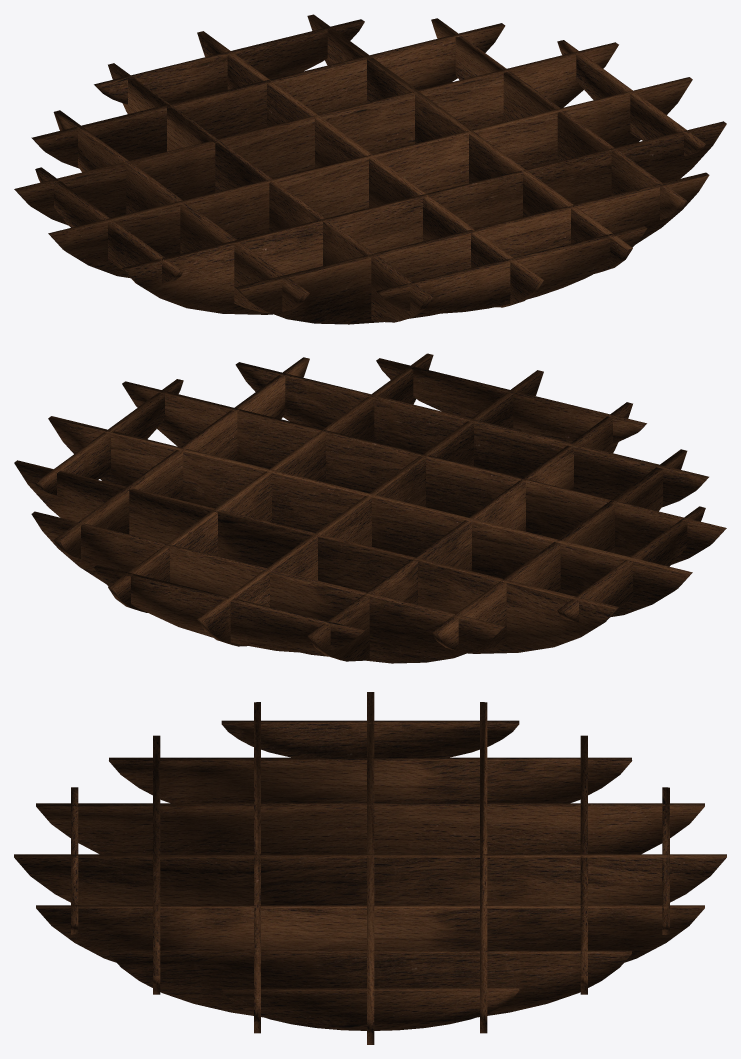
File: decorative-bookshelf-opt.glb
3 views of the same model, one above another, from view 1: azimuth 30°, elevation 25°; view 2: azimuth 150°, elevation 25°; view 3: azimuth 270°, elevation 25° (orthographic). The views are drawn at different scales.
Parts seen in each view (by area): view 1: Bookshelf.001; view 2: Bookshelf.001; view 3: Bookshelf.001.
Boxes of the visible parts, x1,y1,x2,y2 form: Bookshelf.001: (14, 14, 726, 324); Bookshelf.001: (14, 353, 726, 663); Bookshelf.001: (14, 692, 726, 1044).
Size of the model in its own units: 1.75 by 0.2622 by 1.6.
Materials: 1 (1 with a texture image).
